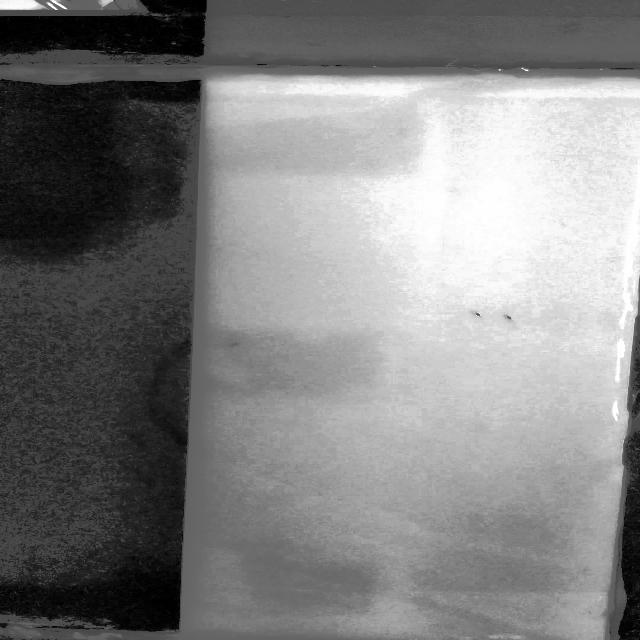shrimp: (219, 335, 260, 350), (467, 304, 493, 322), (497, 310, 525, 326)
